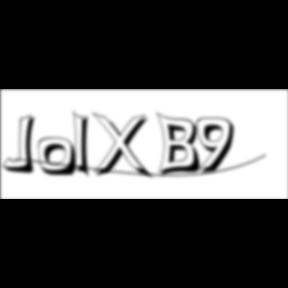9: (196, 117, 242, 177)
B: (157, 111, 207, 179)
J: (3, 114, 42, 176)
X: (92, 112, 156, 182)
l: (74, 108, 96, 182)
o: (38, 137, 80, 179)
